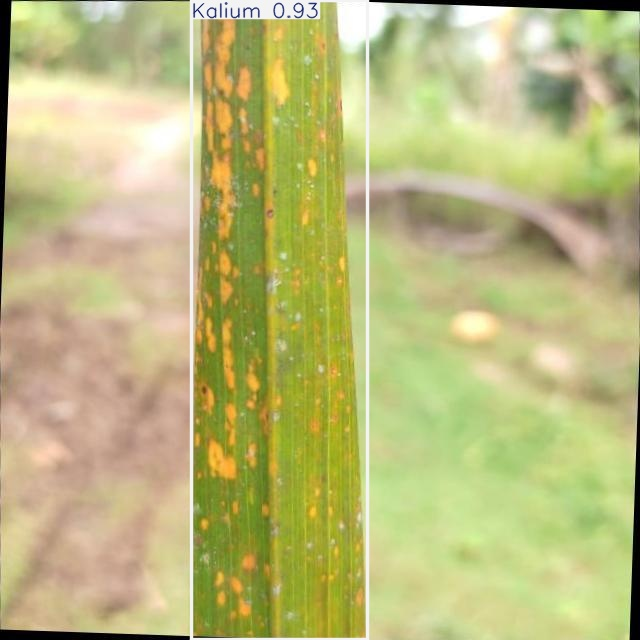Kalium: (192, 1, 367, 640)
